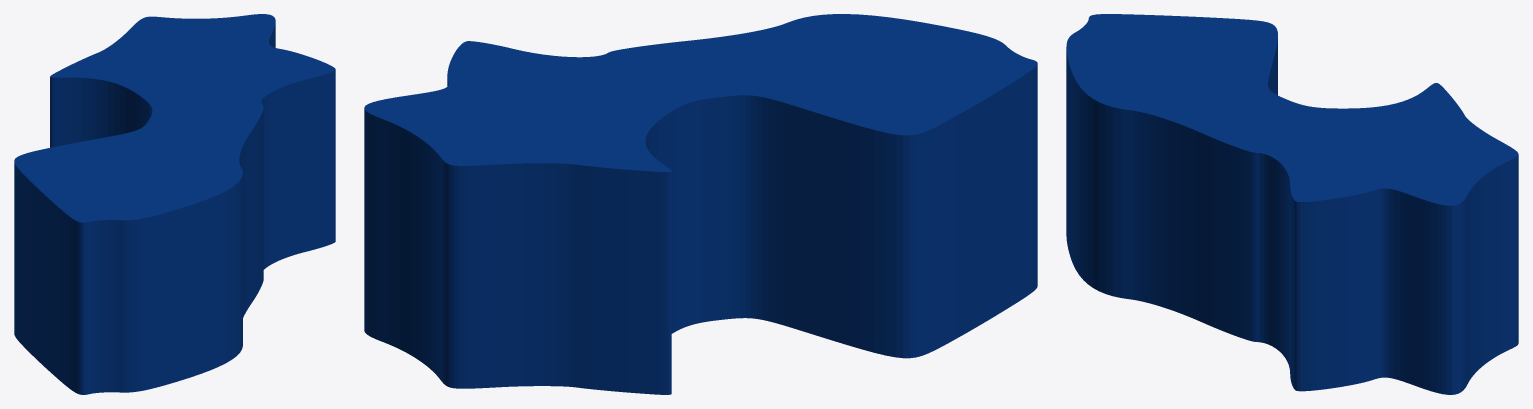
Rendered from Europe_07.obj.
3 views of the same model, side by side, from view 1: azimuth 30°, elevation 25°; view 2: azimuth 150°, elevation 25°; view 3: azimuth 270°, elevation 25° (orthographic). The views are drawn at different scales.
Parts seen in each view (by area): view 1: Europe_07_path4244; view 2: Europe_07_path4244; view 3: Europe_07_path4244.
Part boxes in pixels (bbox=[...]): Europe_07_path4244: bbox=[14, 14, 335, 394]; Europe_07_path4244: bbox=[364, 14, 1037, 394]; Europe_07_path4244: bbox=[1066, 14, 1518, 394].
Size of the model in its own units: 0.2175 by 0.1 by 0.2166.
